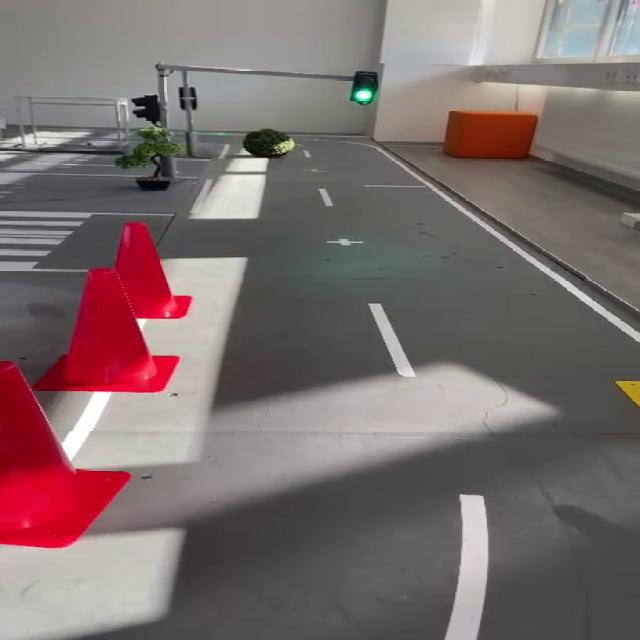Cone-red: (0, 361, 130, 548), (34, 268, 178, 392), (112, 223, 190, 318)
Cones-yellow: (617, 381, 639, 407)
